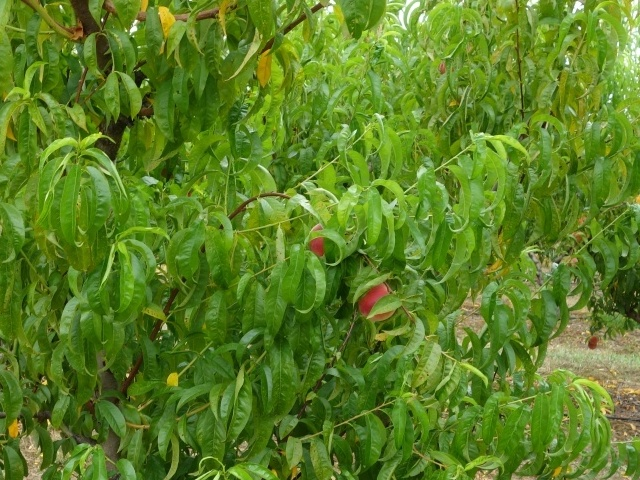peach: (356, 276, 401, 323), (307, 221, 333, 259)
